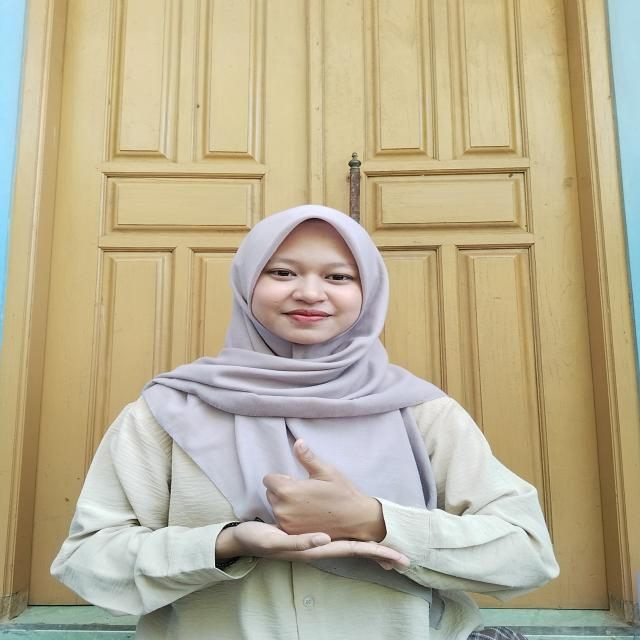cantik: (174, 437, 414, 576)
